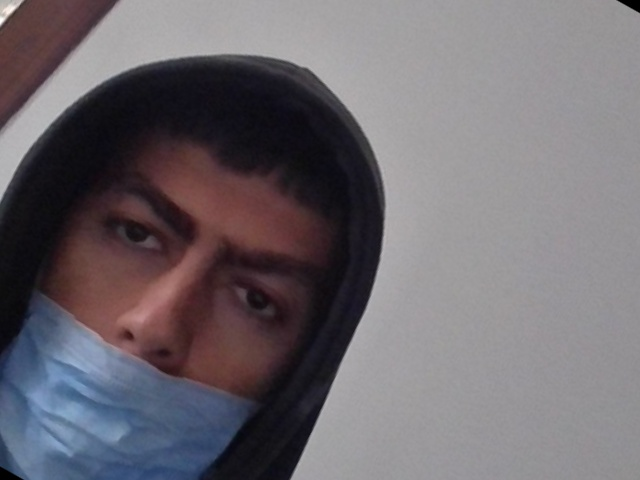mask_weared_incorrect: (6, 112, 343, 480)
